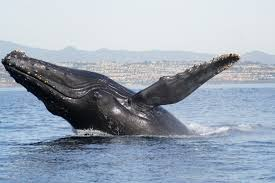humpback: (3, 48, 193, 133)
